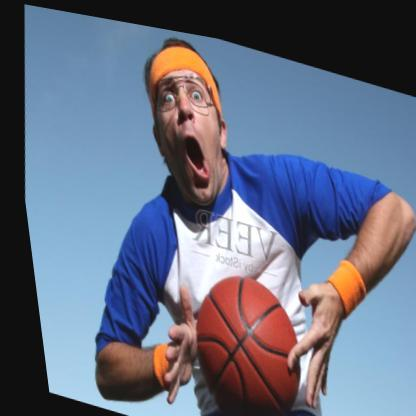basketball: (171, 253, 307, 416)
